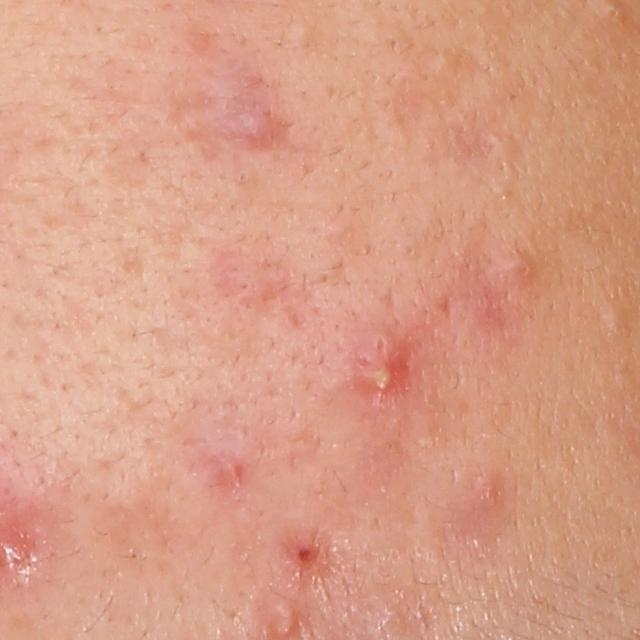comedo: (597, 306, 625, 335)
papule: (217, 96, 277, 147), (461, 468, 513, 522), (216, 453, 244, 489), (292, 539, 320, 571)
pustule: (359, 345, 404, 394)
